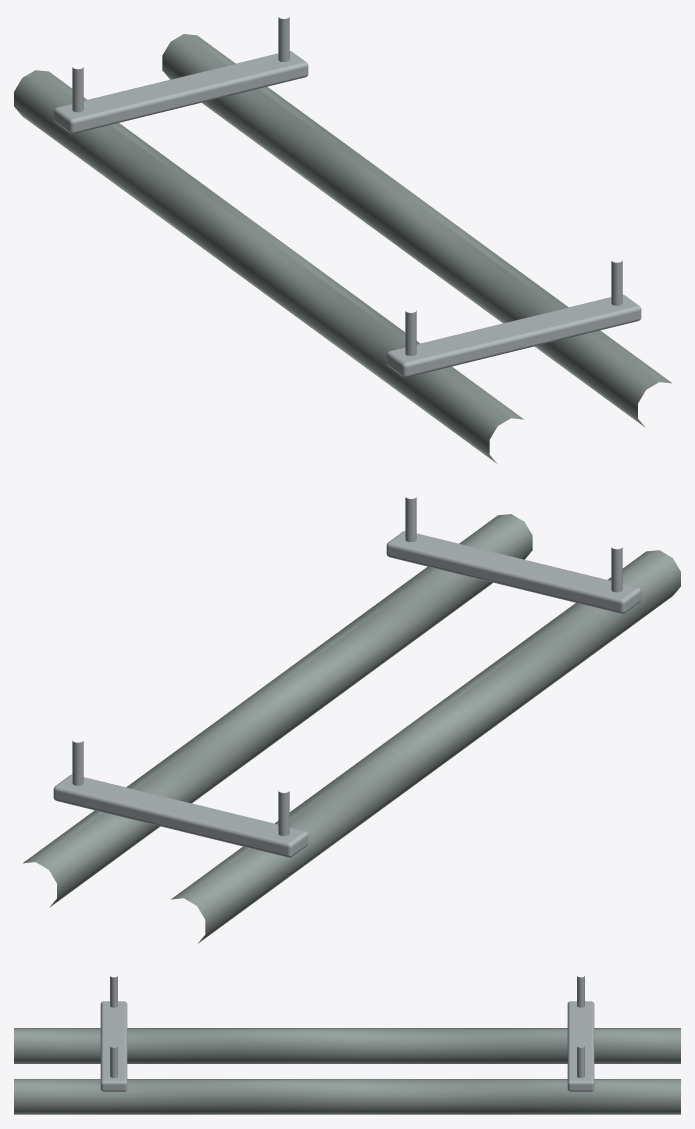
The model's file is liminal-spaces-kit-ceiling-pipe-run-c2933c4b__25316.glb.
3 renders of one model, top to bottom at view 1: azimuth 30°, elevation 25°; view 2: azimuth 150°, elevation 25°; view 3: azimuth 270°, elevation 25°, orthographic. The views are drawn at different scales.
Visible parts, largest first — view 1: ceiling-pipe-run; view 2: ceiling-pipe-run; view 3: ceiling-pipe-run.
Boxes of the visible parts, x1,y1,x2,y2 form: ceiling-pipe-run: (14, 17, 671, 463); ceiling-pipe-run: (23, 497, 680, 943); ceiling-pipe-run: (14, 976, 680, 1114).
Size of the model in its own units: 0.58 by 0.2551 by 2.
2 materials, 1 textured.
